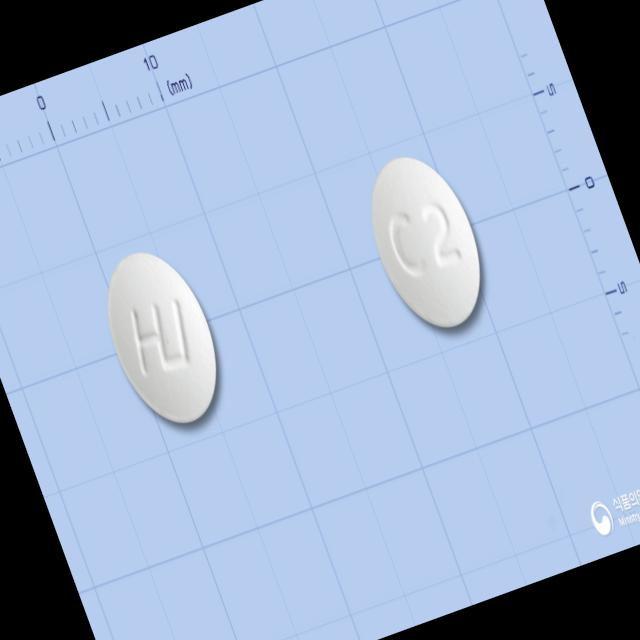Huloxacin: (86, 236, 240, 439), (349, 141, 502, 342)
